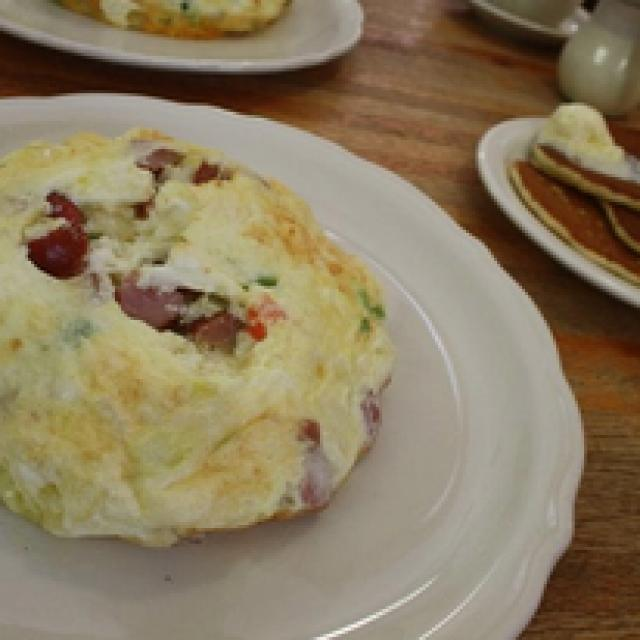Omelette: (3, 118, 398, 547)
Pancakes: (507, 143, 640, 308)
